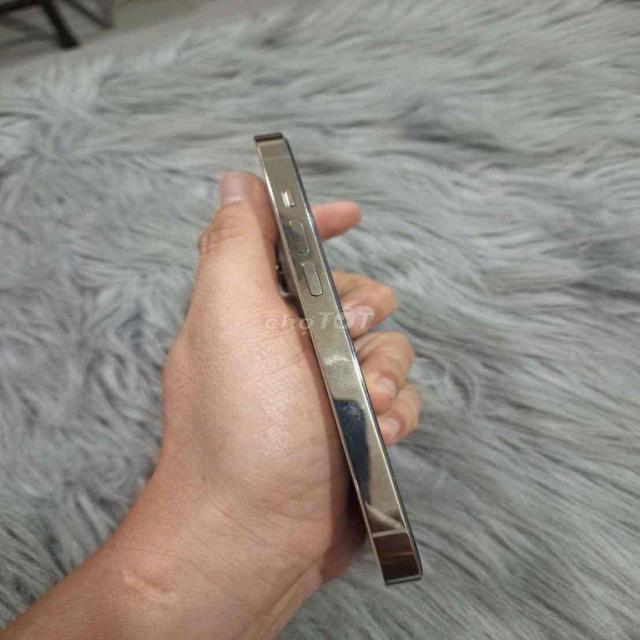scratch: (311, 340, 381, 437)
